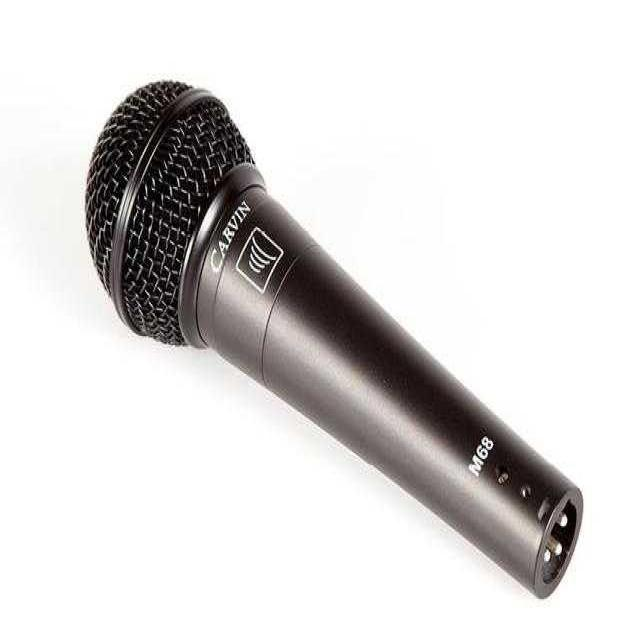microphone: (89, 76, 570, 600)
